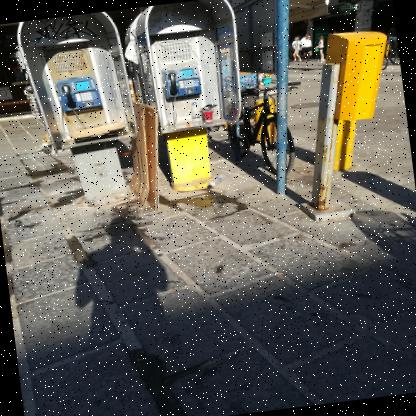Cigarette: (275, 271, 283, 274)
Clear plastic bottle: (207, 174, 226, 187), (190, 102, 200, 121)
Corrugated carton: (128, 104, 149, 205), (73, 120, 126, 138)
Disposable plastic cup: (202, 109, 213, 121)
Other plastic: (200, 104, 217, 110)
Plastic bottle cap: (186, 123, 190, 125), (208, 185, 211, 187), (192, 102, 196, 103)
Plastic film: (125, 40, 138, 64)
